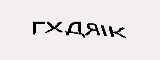І: (100, 22, 108, 38)
Г: (30, 20, 45, 37)
Д: (66, 20, 84, 39)
К: (107, 24, 129, 41)
Х: (44, 18, 63, 36)
Я: (84, 21, 99, 37)
